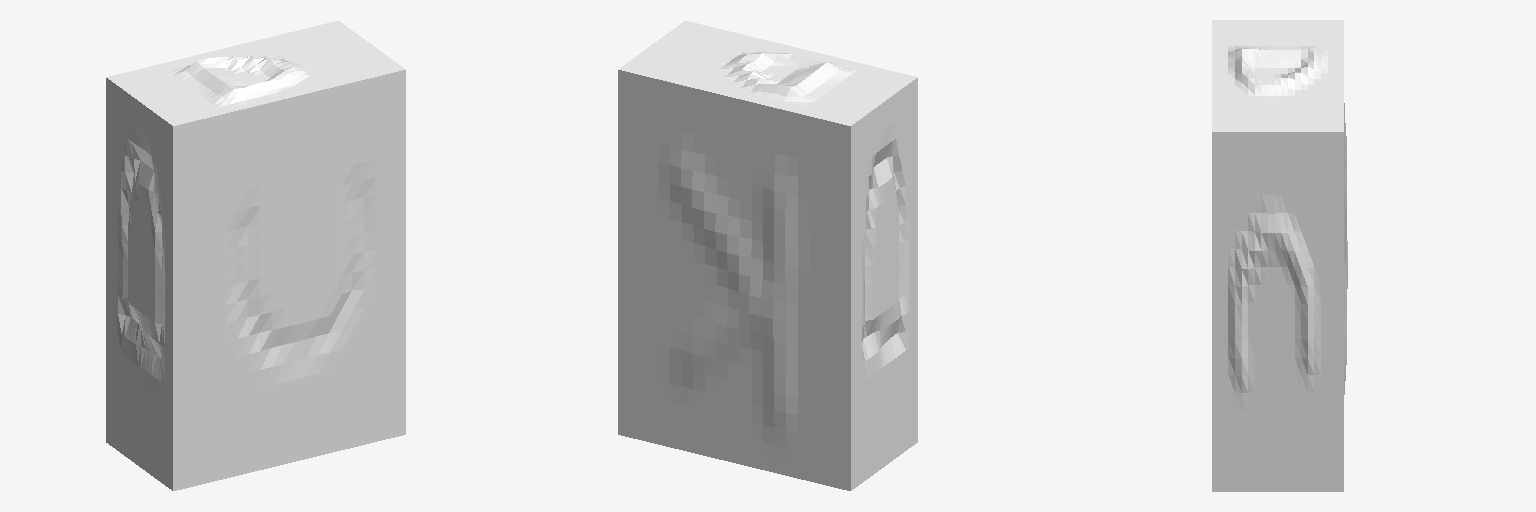
URDF robot description (cube.urdf):
<?xml version="1.0" ?>
<robot name="cube.urdf">
  <link name="baseLink">
    <contact>
    	<friction_anchor/>
    	   <lateral_friction value="0.5"/>
        <rolling_friction value="0.005"/>
        <spinning_friction value="0.005"/>
    </contact>
    <inertial>
      <origin rpy="0 0 0" xyz="0 0 0"/>
       <mass value="1"/>
       <inertia ixx="1" ixy="0" ixz="0" iyy="1.3" iyz="0" izz="0.5"/>
    </inertial>
    <visual>
      <origin rpy="0 0 0" xyz="0 0 0"/>
      <geometry>
				<mesh filename="cube_kdc.obj" scale=".10 .05 .15"/>
      </geometry>
       <material name="white">
        <color rgba="1 1 1 1"/>
      </material>
    </visual>
    <collision>
      <origin rpy="0 0 0" xyz="0 0 0"/>
      <geometry>
	 	<box size=".10 .05 .15"/>
      </geometry>
    </collision>
  </link>
</robot>

--- Facts derived from the render (not from the file) ---
3 views of the same robot in one strip: view 1: azimuth 30°, elevation 25°; view 2: azimuth 150°, elevation 25°; view 3: azimuth 270°, elevation 25° (orthographic).
Model cube.urdf with 1 links and 0 joints (none), rooted at baseLink, posed all joints at 0.
Visible links, largest first — view 1: baseLink; view 2: baseLink; view 3: baseLink.
Boxes of the visible links, x1=… form: baseLink: x1=106, y1=21, x2=405, y2=490; baseLink: x1=618, y1=21, x2=917, y2=490; baseLink: x1=1212, y1=20, x2=1347, y2=491.
Bounding box of the posed robot: 0.102 × 0.0515 × 0.1536 m (x, y, z).
Meshes: 1 distinct files referenced, 1 mesh visuals loaded (1 OBJ).